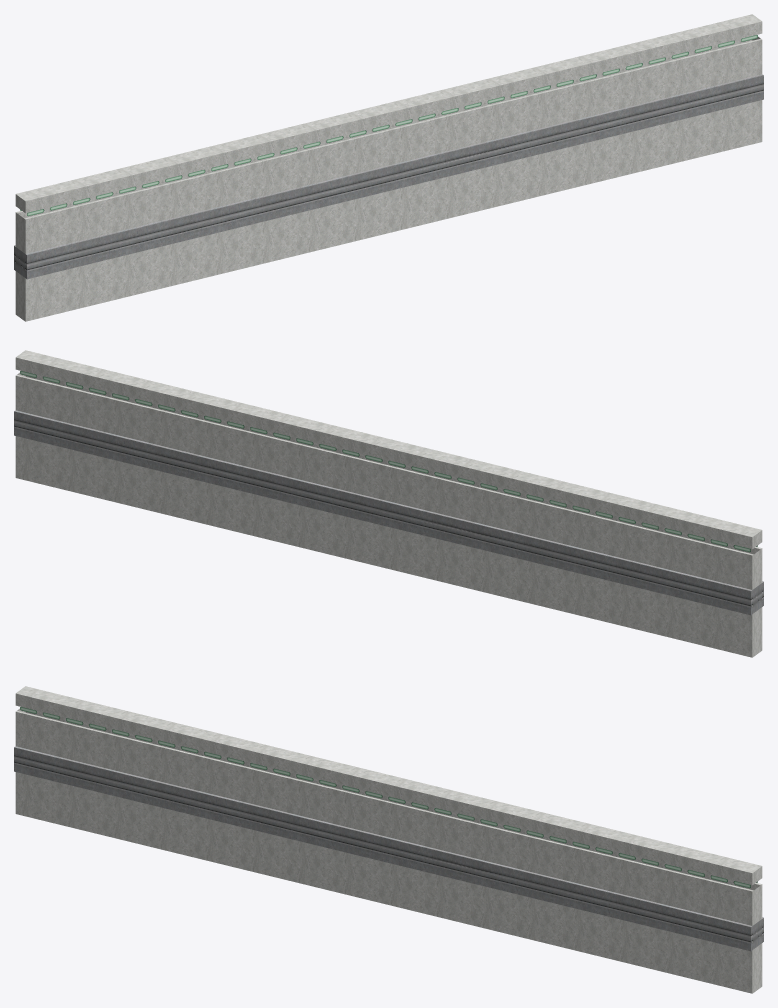
The model's file is thm_corl_imprv_wall_4x32_s01_l0.fbx.
3 renders of one model, top to bottom at view 1: azimuth 30°, elevation 25°; view 2: azimuth 150°, elevation 25°; view 3: azimuth 330°, elevation 25°, orthographic.
Visible parts, largest first — view 1: mesh_node; view 2: mesh_node; view 3: mesh_node.
Boxes of the visible parts, <box> form: mesh_node: <box>14,14,763,321</box>; mesh_node: <box>14,350,763,657</box>; mesh_node: <box>14,686,763,993</box>.
Bounding box in the file's own units: 32 × 5 × 0.9831.
